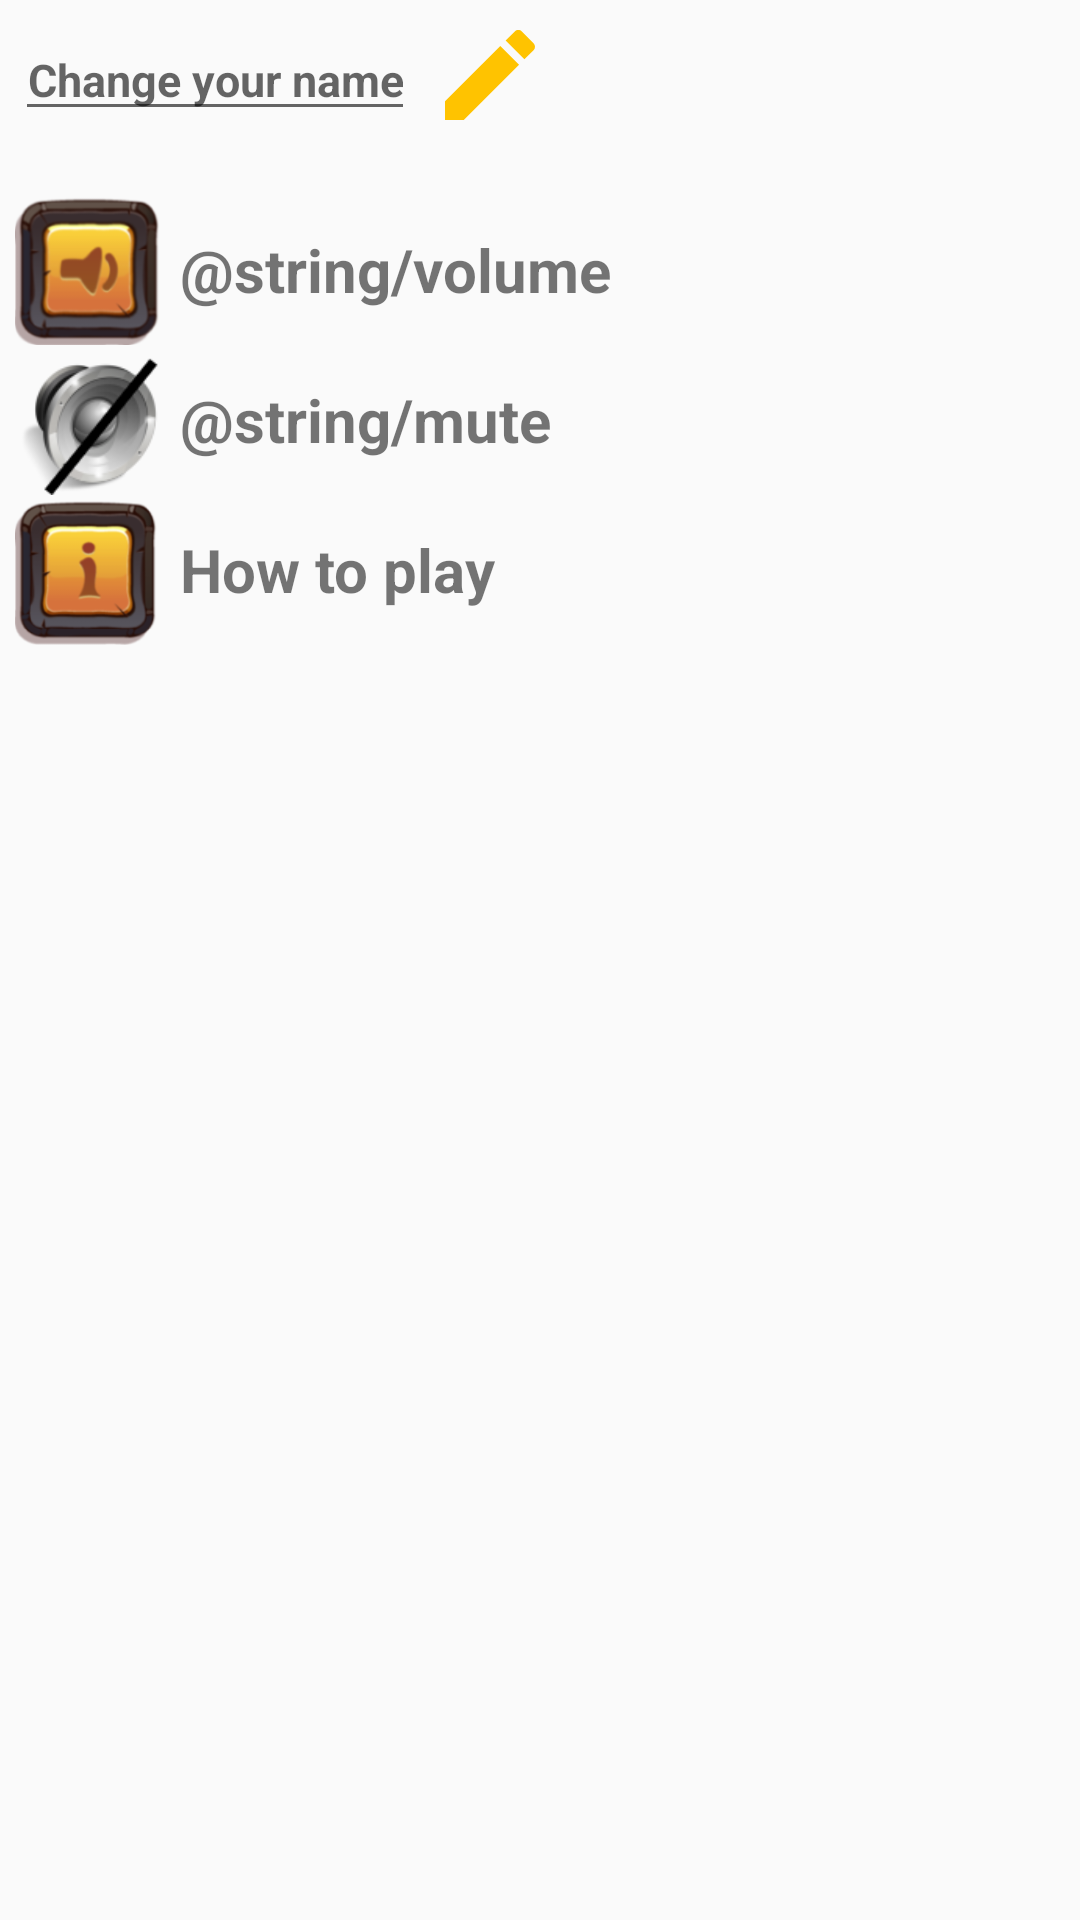

Where icons sit on this 1080*1920 app screen, as (x1, y1, x2, y2):
edit: (445, 30, 535, 120)
